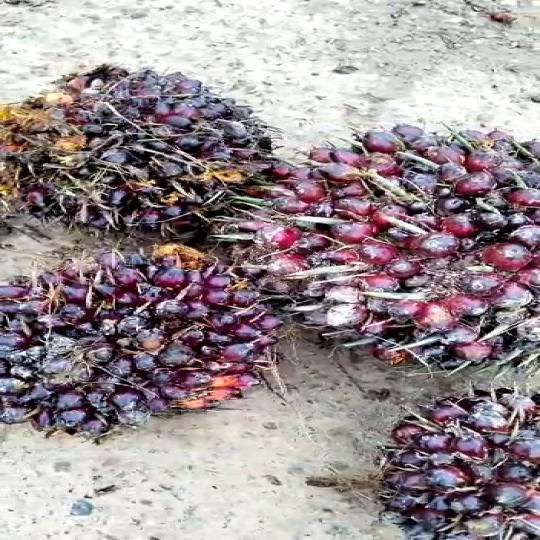kurang masak: (243, 110, 540, 374), (0, 246, 288, 458), (0, 66, 279, 246), (373, 376, 540, 540)
